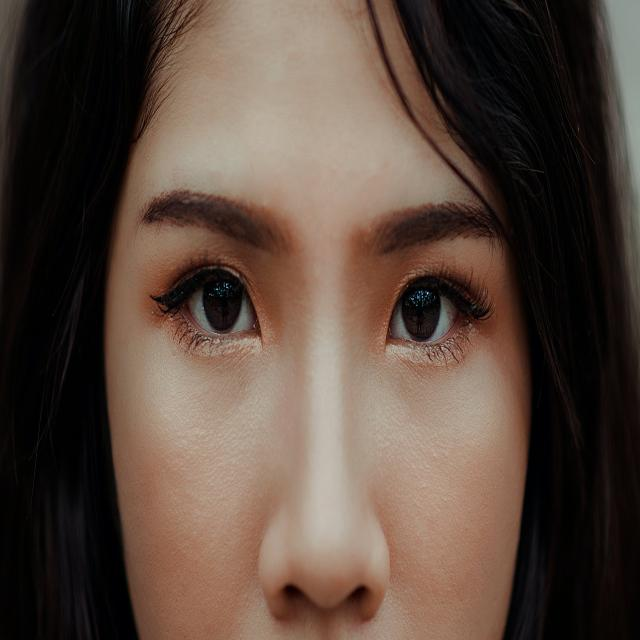others: (0, 1, 140, 317)
